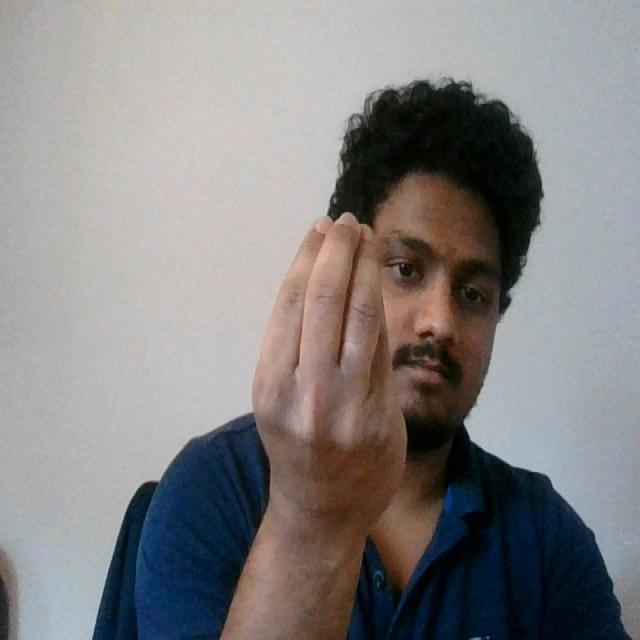Please: (245, 207, 403, 514)
